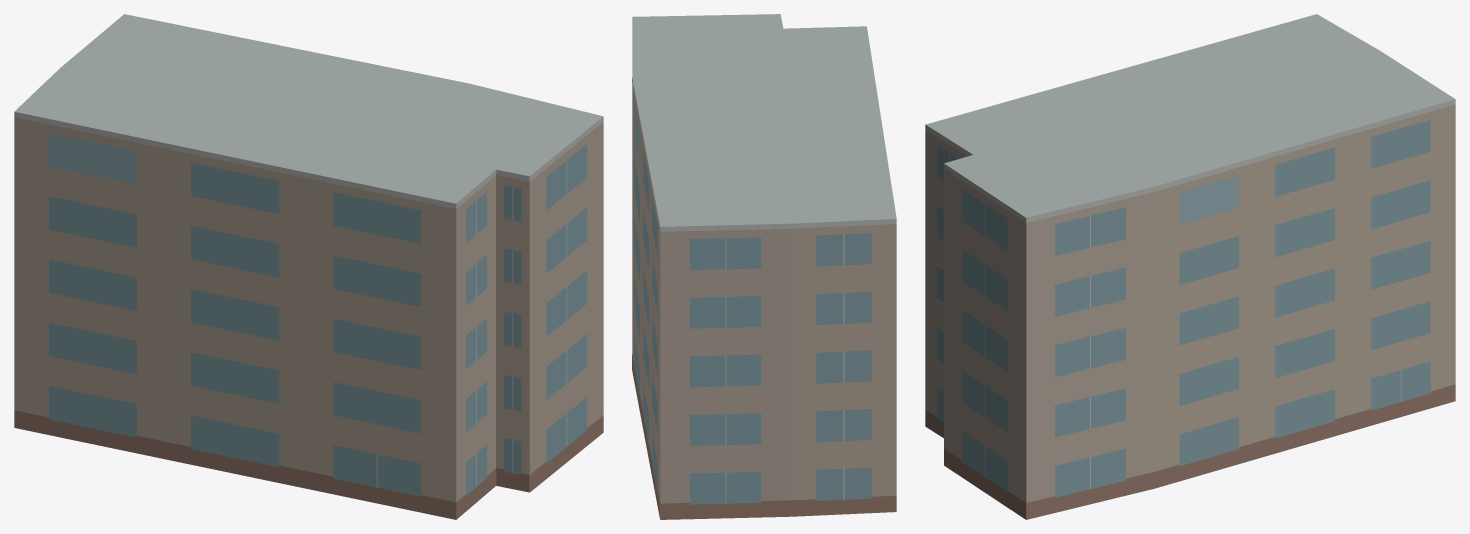
Rendered from survey-upis-32732639.glb.
The picture shows the model from 3 angles, left to right: view 1: azimuth 30°, elevation 25°; view 2: azimuth 150°, elevation 25°; view 3: azimuth 270°, elevation 25°; orthographic projection. The views are drawn at different scales.
Visible parts, largest first — view 1: survey-upis-32732639.tmp; view 2: survey-upis-32732639.tmp; view 3: survey-upis-32732639.tmp.
Boxes of the visible parts, x1,y1,x2,y2 form: survey-upis-32732639.tmp: [14, 14, 603, 519]; survey-upis-32732639.tmp: [632, 14, 896, 519]; survey-upis-32732639.tmp: [925, 14, 1455, 519].
Size of the model in its own units: 20.57 by 14.2 by 22.6.
